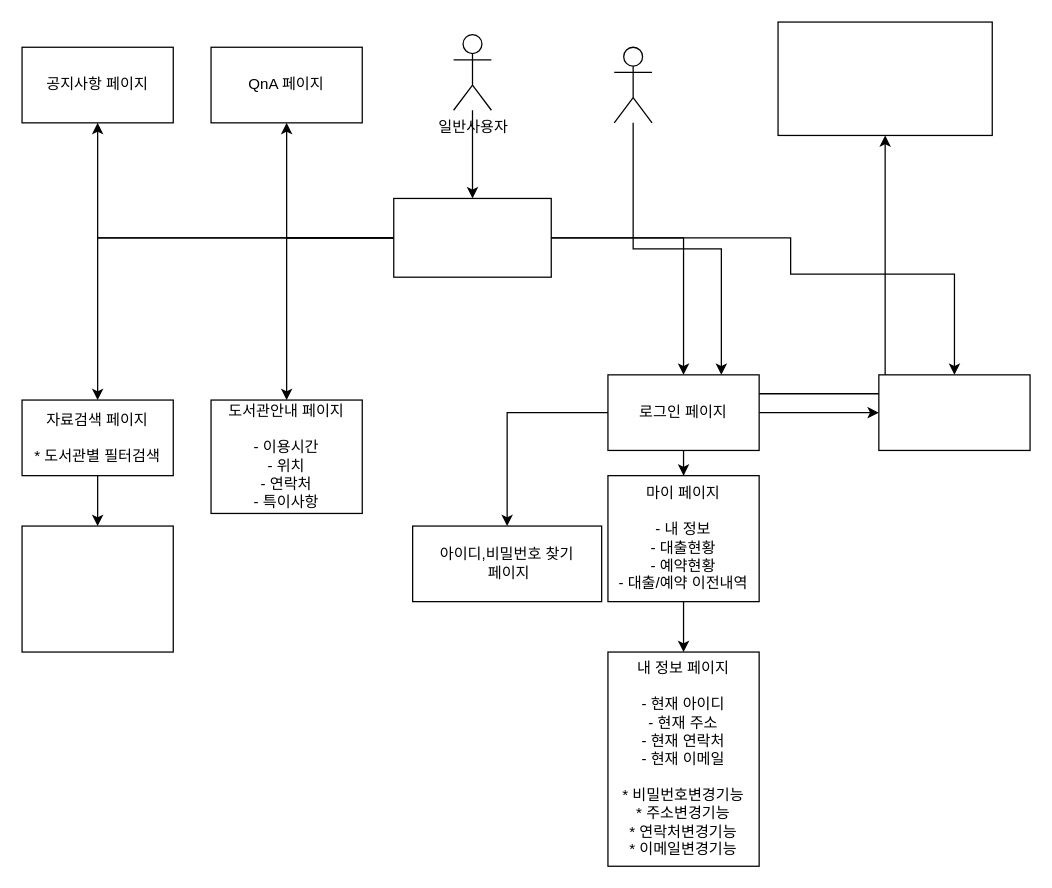
The diagram is 1052 pixels wide and 888 high, and some of its shapes have lost their labels. The shapes that lost their labels are listed below. From the top down, each one's centre as x and y in pixels, then its label:
the point at 632,84: 관리자
the point at 884,78: 관리자 페이지 - 현재 회원목록 - 현재 책 대출현황/재고 * 책 입출고 관리기능
the point at 471,237: 메인 페이지
the point at 954,412: 회원가입 페이지
the point at 97,588: 자료검색 결과 페이지 - 책 대출가능여부 - 책 정보 * 페이징기능
